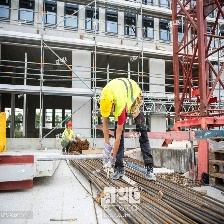helmet: (99, 86, 116, 120)
person: (100, 78, 158, 183)
vest: (111, 77, 140, 116)
